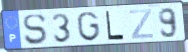3: (51, 12, 73, 44)
9: (158, 7, 179, 39)
G: (75, 11, 102, 43)
L: (105, 9, 126, 41)
S: (22, 13, 48, 46)
Z: (128, 7, 155, 40)
